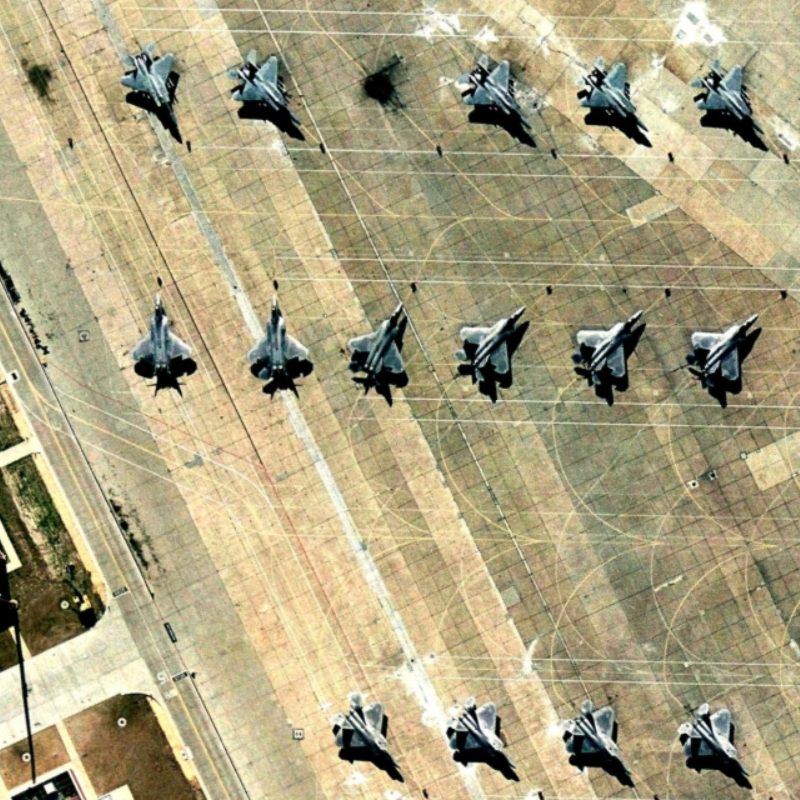A13: (110, 39, 199, 148), (683, 54, 778, 145), (448, 50, 541, 142), (571, 47, 657, 146), (224, 42, 313, 136)
A15: (123, 280, 206, 383), (671, 697, 760, 790), (565, 303, 650, 400), (449, 295, 532, 394), (240, 285, 319, 388), (321, 689, 410, 780), (332, 294, 415, 389), (685, 303, 768, 398), (443, 695, 530, 783), (557, 694, 643, 783)
